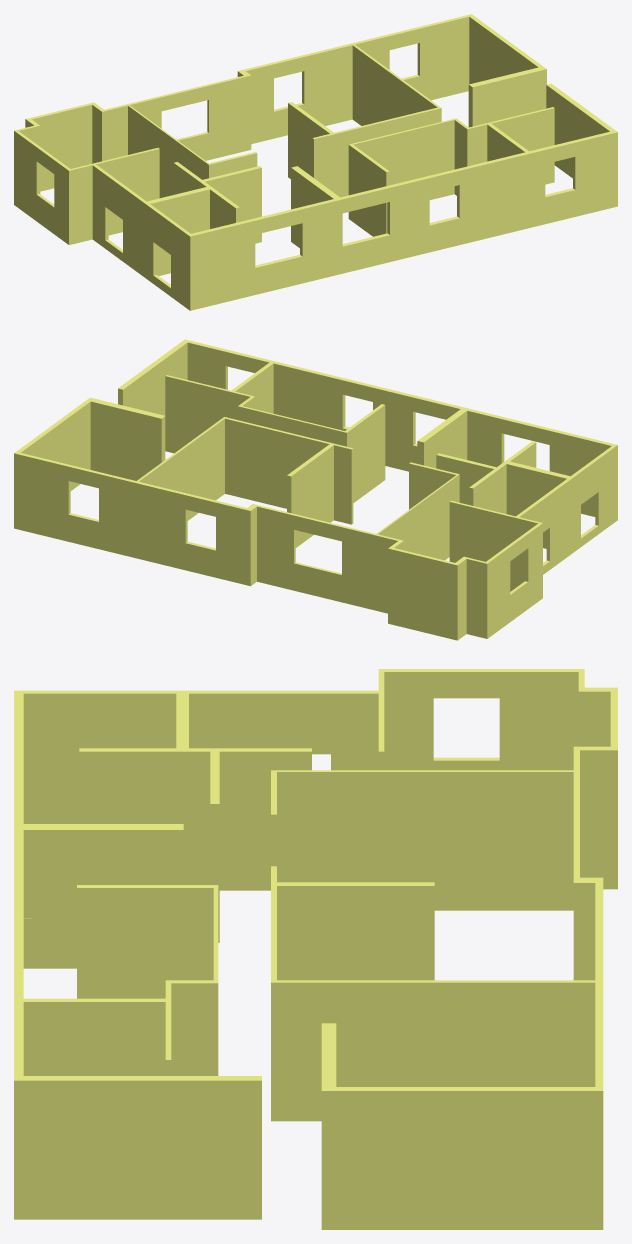
Rendered from modeloCasa.fbx.
3 renders of one model, top to bottom at view 1: azimuth 30°, elevation 25°; view 2: azimuth 150°, elevation 25°; view 3: azimuth 270°, elevation 25°, orthographic. The views are drawn at different scales.
Parts seen in each view (by area): view 1: PAREDES; view 2: PAREDES; view 3: PAREDES.
Boxes of the visible parts, x1,y1,x2,y2 form: PAREDES: [14, 14, 617, 310]; PAREDES: [14, 339, 617, 640]; PAREDES: [14, 669, 617, 1229].
Bounding box in the file's own units: 1824 × 280 × 1104.
